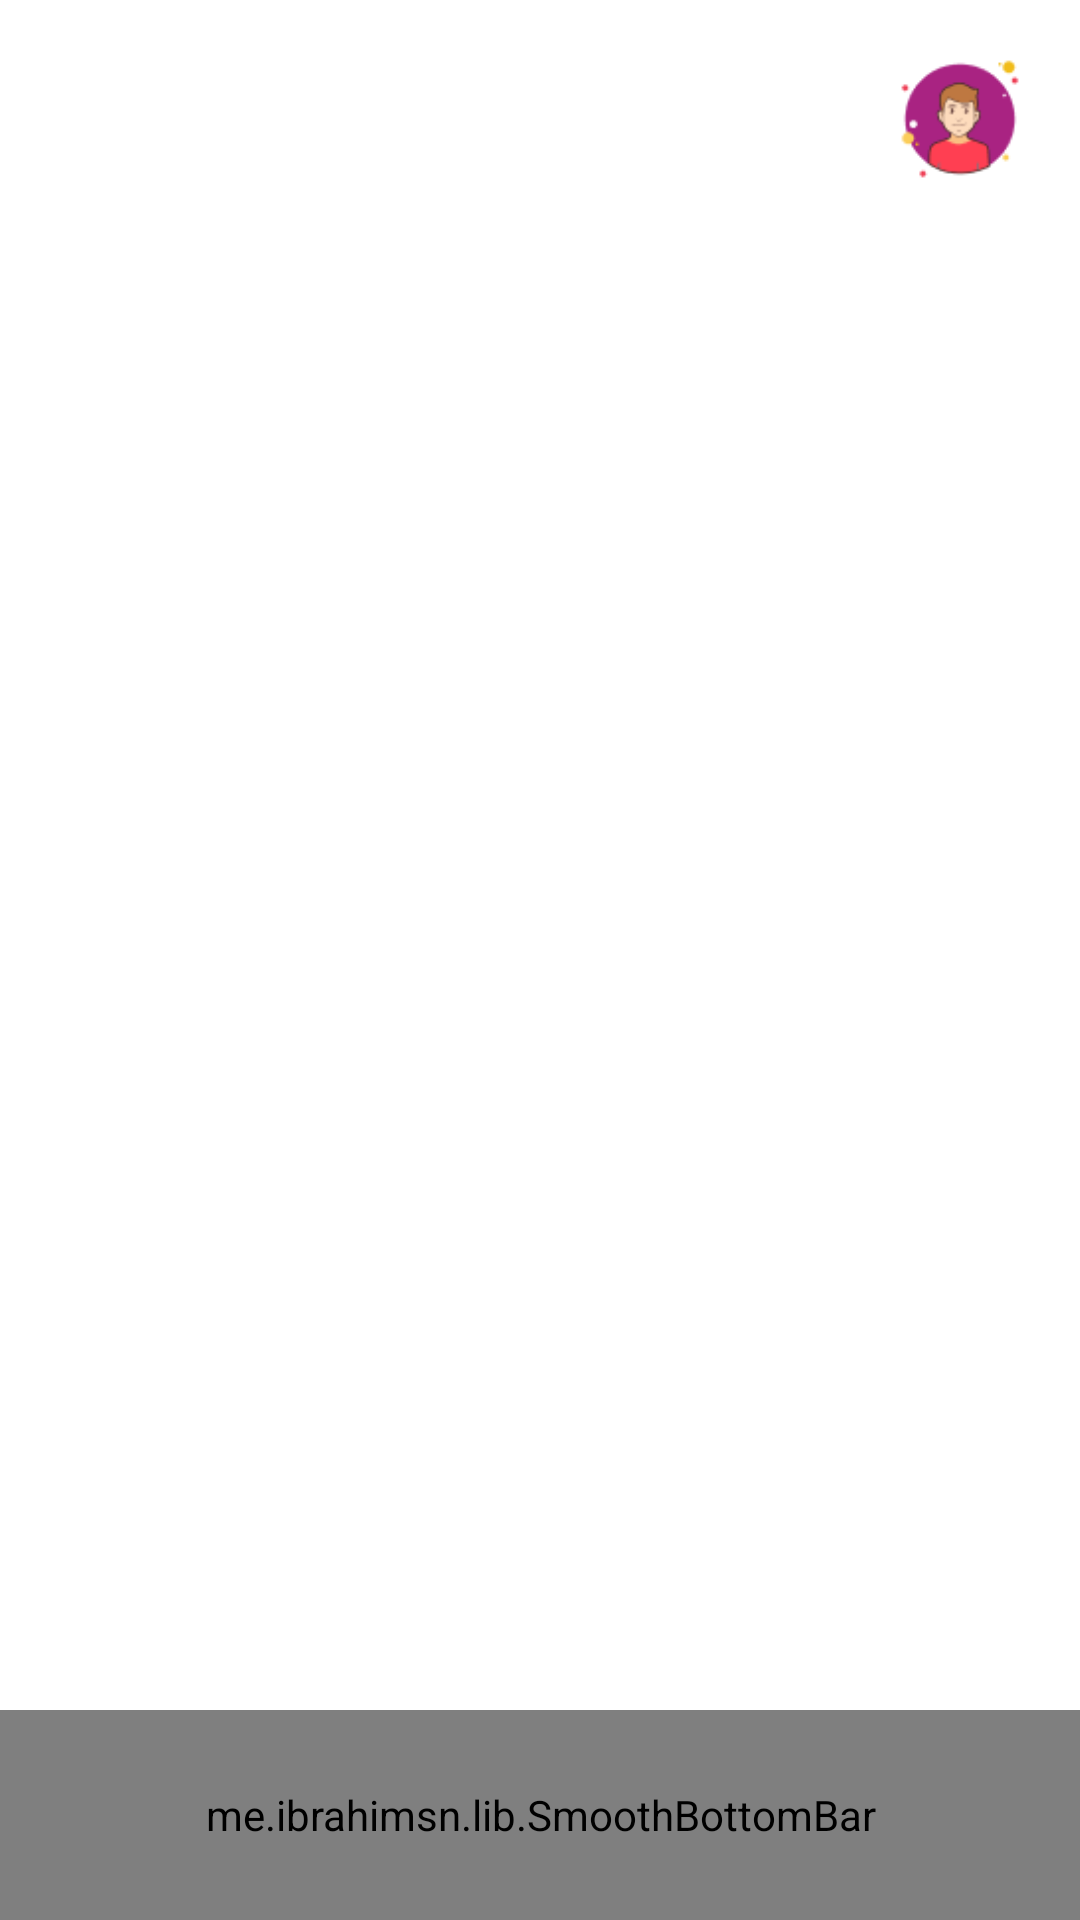

Screen size 1080px×1920px. Icon name, then its center in pixels as point (x, y):
user: point (960, 119)
